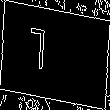L_S: (45, 28, 65, 82)
